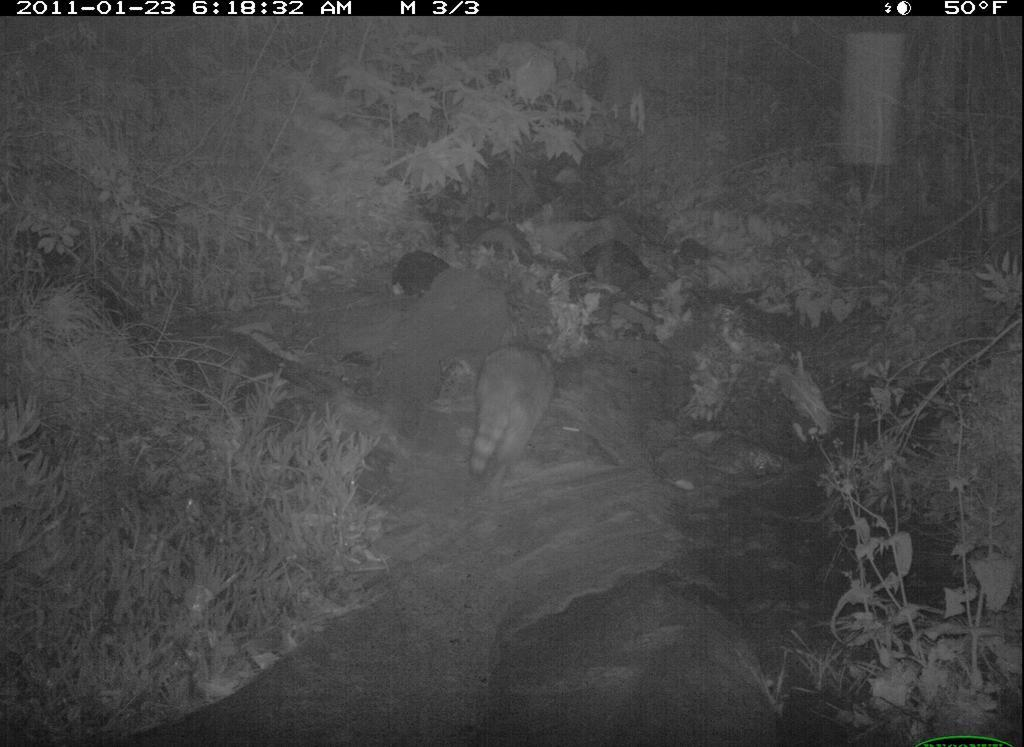raccoon: (464, 332, 564, 491)
